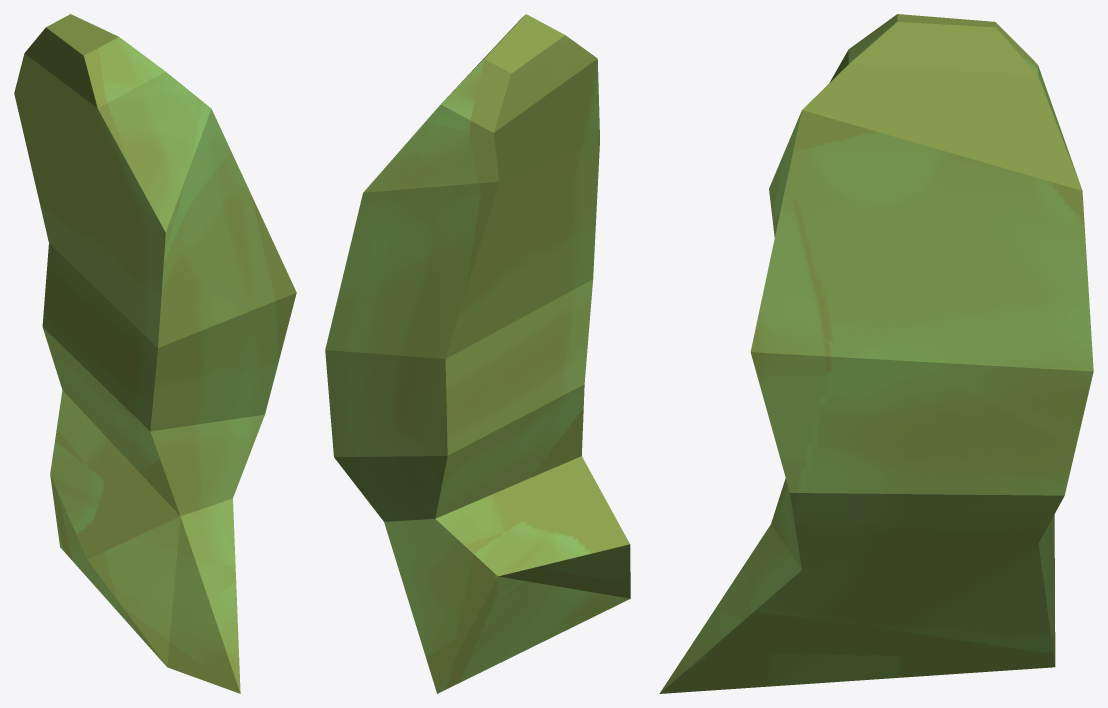
Rendered from steak.fbx.
3 renders of one model, left to right at view 1: azimuth 30°, elevation 25°; view 2: azimuth 150°, elevation 25°; view 3: azimuth 270°, elevation 25°, orthographic. The views are drawn at different scales.
Visible parts, largest first — view 1: Cube; view 2: Cube; view 3: Cube.
Boxes of the visible parts, left/top/right/bottom form: Cube: left=14, top=14, right=296, bottom=693; Cube: left=325, top=14, right=630, bottom=693; Cube: left=659, top=14, right=1093, bottom=693.
Size of the model in its own units: 214 by 680 by 404.
Materials: 1 (1 with a texture image).
